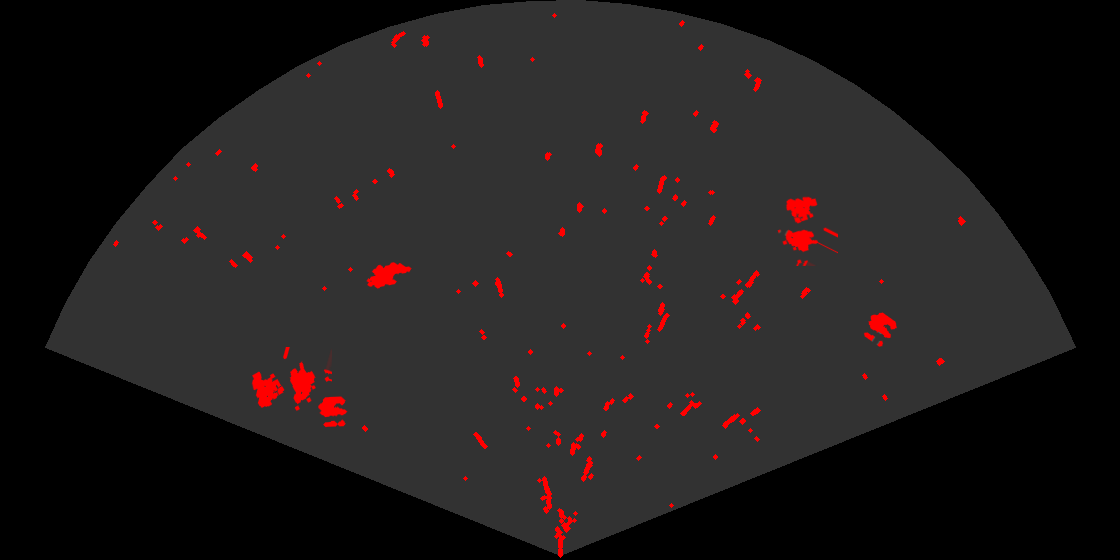AUV: (365, 261, 413, 290)
ball: (862, 311, 899, 348), (317, 395, 349, 429)
cage: (250, 347, 332, 412), (776, 195, 838, 266)
